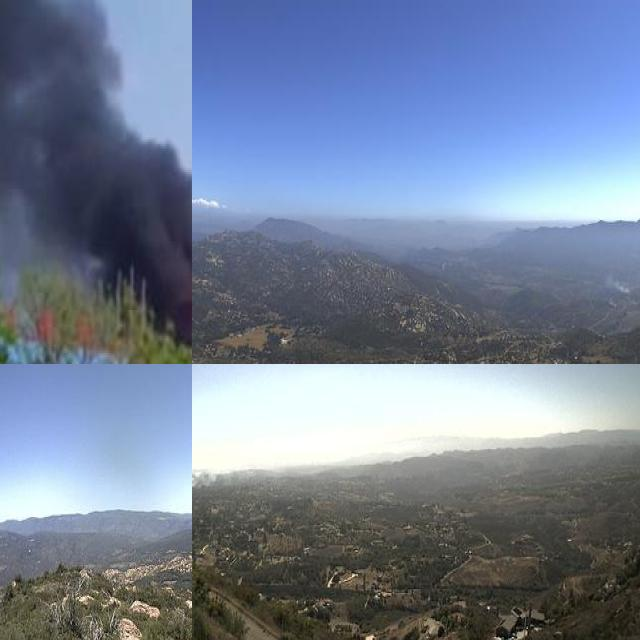smoke: (0, 0, 192, 305), (192, 454, 282, 486), (603, 272, 634, 299)
